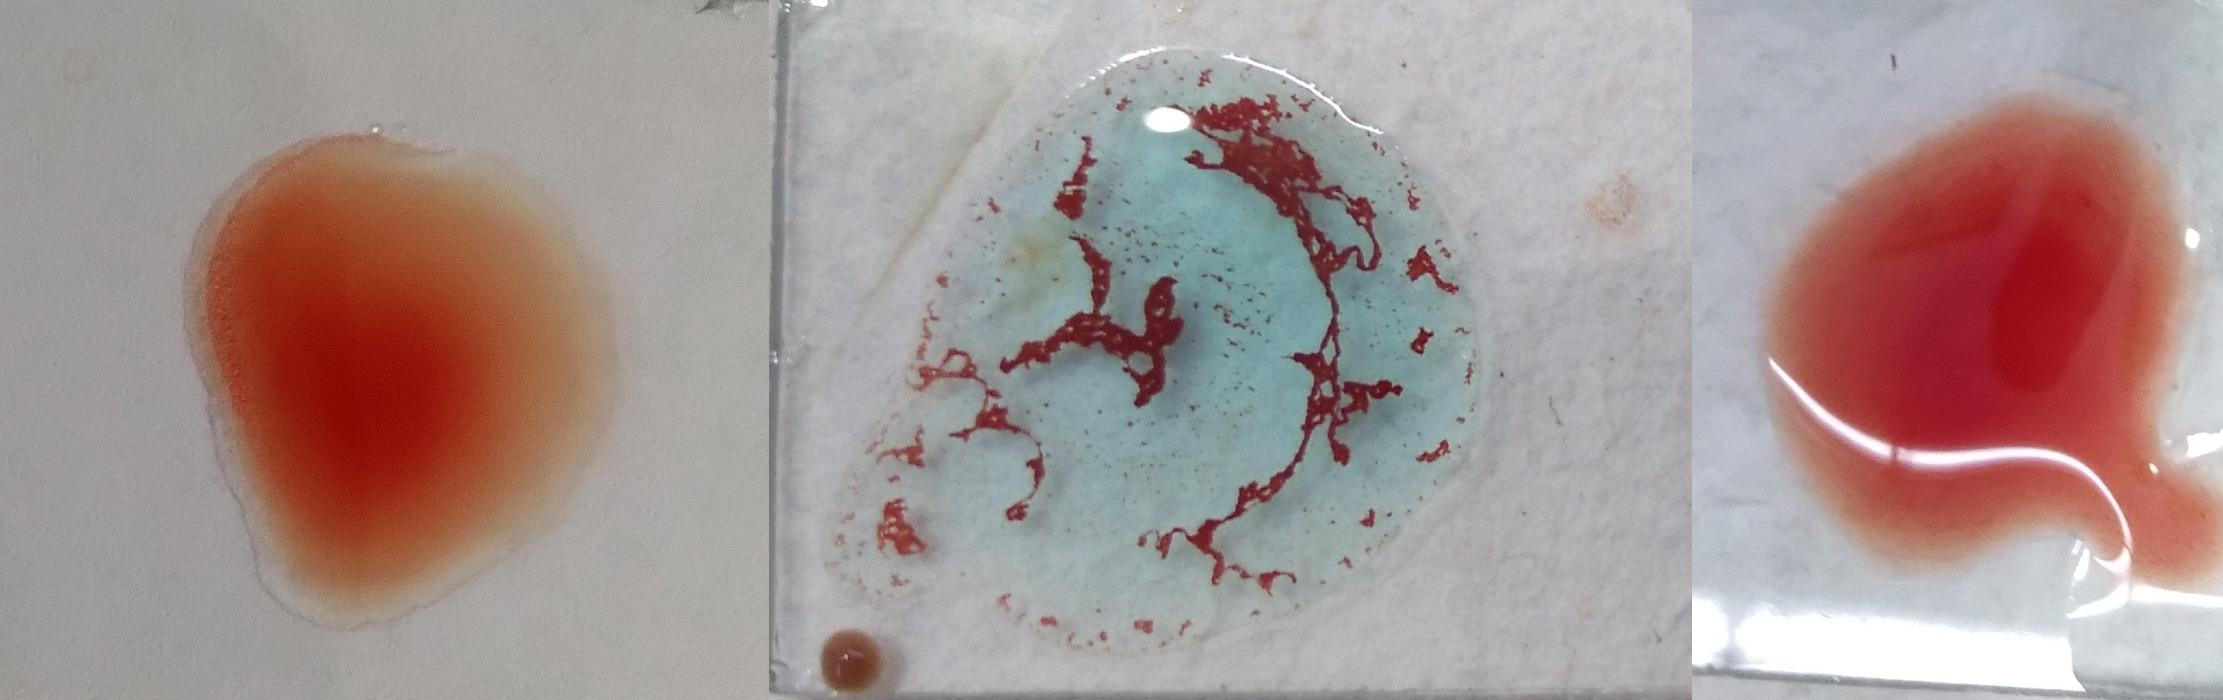A: (882, 28, 1514, 640)
